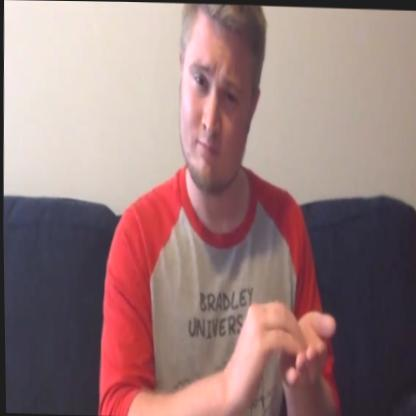ExcuseMe: (225, 275, 341, 416)
